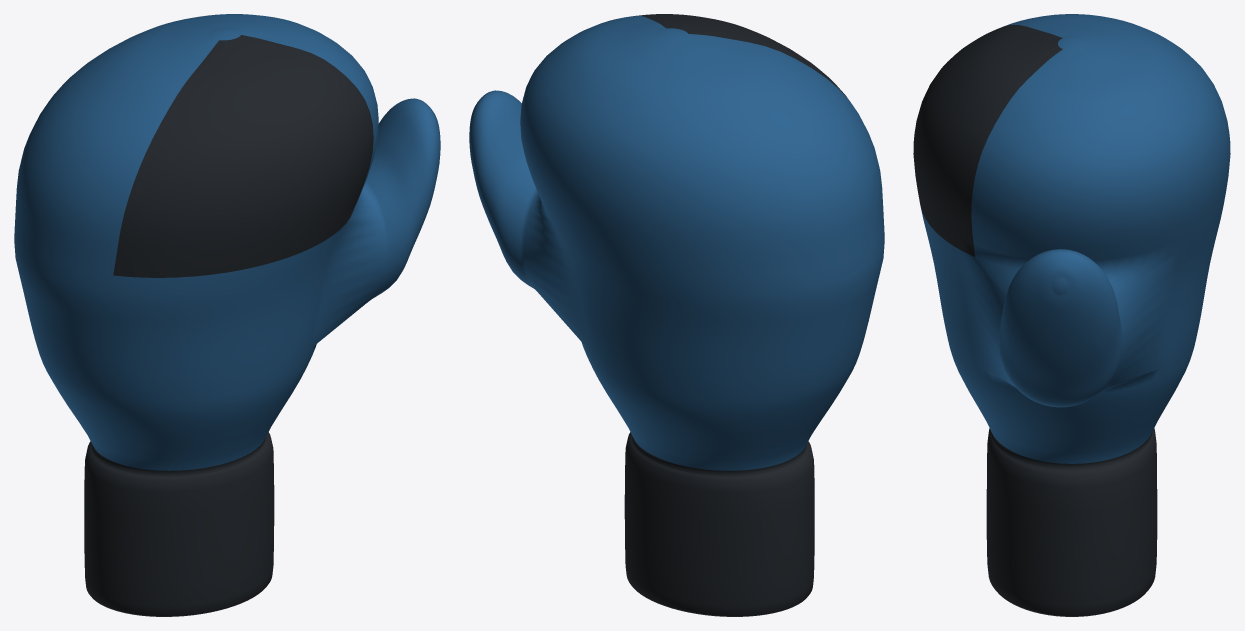
The model's file is A-NEW-20261027-BOXING_GLOVE-001_LOD0_R5.glb.
3 views of the same model, side by side, from view 1: azimuth 30°, elevation 25°; view 2: azimuth 150°, elevation 25°; view 3: azimuth 270°, elevation 25° (orthographic). The views are drawn at different scales.
Parts seen in each view (by area): view 1: original padded fist curved thumb and open wrist cuff; view 2: original padded fist curved thumb and open wrist cuff; view 3: original padded fist curved thumb and open wrist cuff.
Part boxes in pixels (left/top/right/bottom): original padded fist curved thumb and open wrist cuff: left=14, top=14, right=440, bottom=616; original padded fist curved thumb and open wrist cuff: left=469, top=14, right=884, bottom=616; original padded fist curved thumb and open wrist cuff: left=913, top=14, right=1230, bottom=616.
Size of the model in its own units: 0.169 by 0.2179 by 0.1123.
